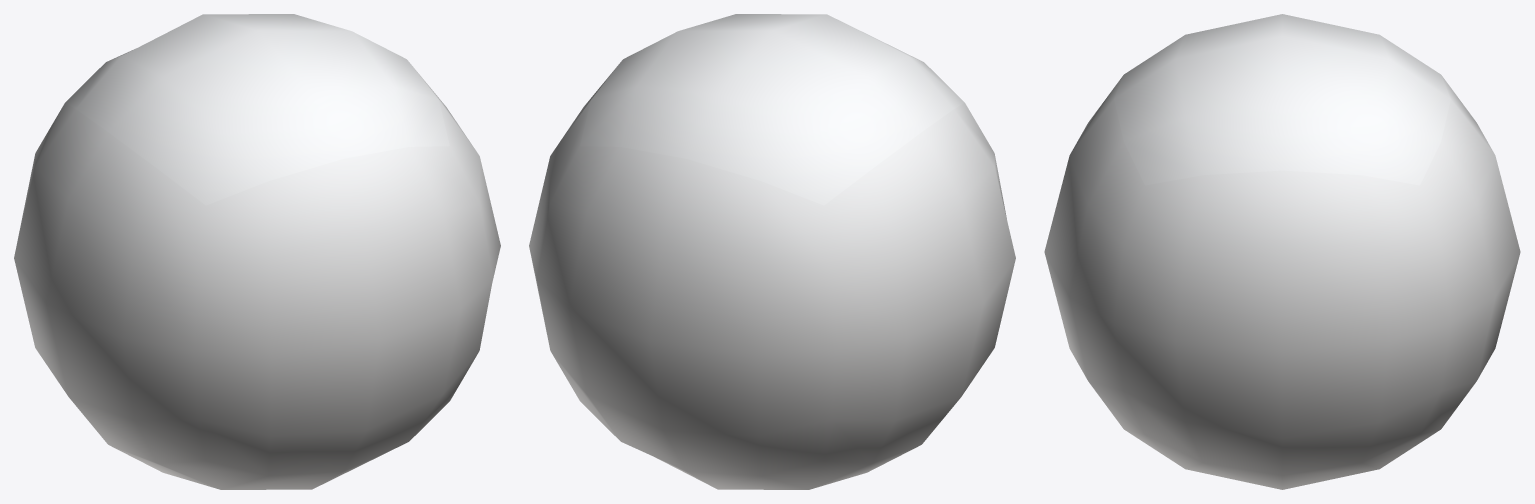
The model's file is BallValley_Kit_Ball_Tail.fbx.
The picture shows the model from 3 angles, left to right: view 1: azimuth 30°, elevation 25°; view 2: azimuth 150°, elevation 25°; view 3: azimuth 270°, elevation 25°; orthographic projection. The views are drawn at different scales.
Visible parts, largest first — view 1: BallValley_Kit_Ball_Tail; view 2: BallValley_Kit_Ball_Tail; view 3: BallValley_Kit_Ball_Tail.
Boxes of the visible parts, x1,y1,x2,y2 form: BallValley_Kit_Ball_Tail: (14, 14, 500, 489); BallValley_Kit_Ball_Tail: (529, 14, 1015, 489); BallValley_Kit_Ball_Tail: (1044, 14, 1520, 489).
Size of the model in its own units: 1 by 1 by 1.
